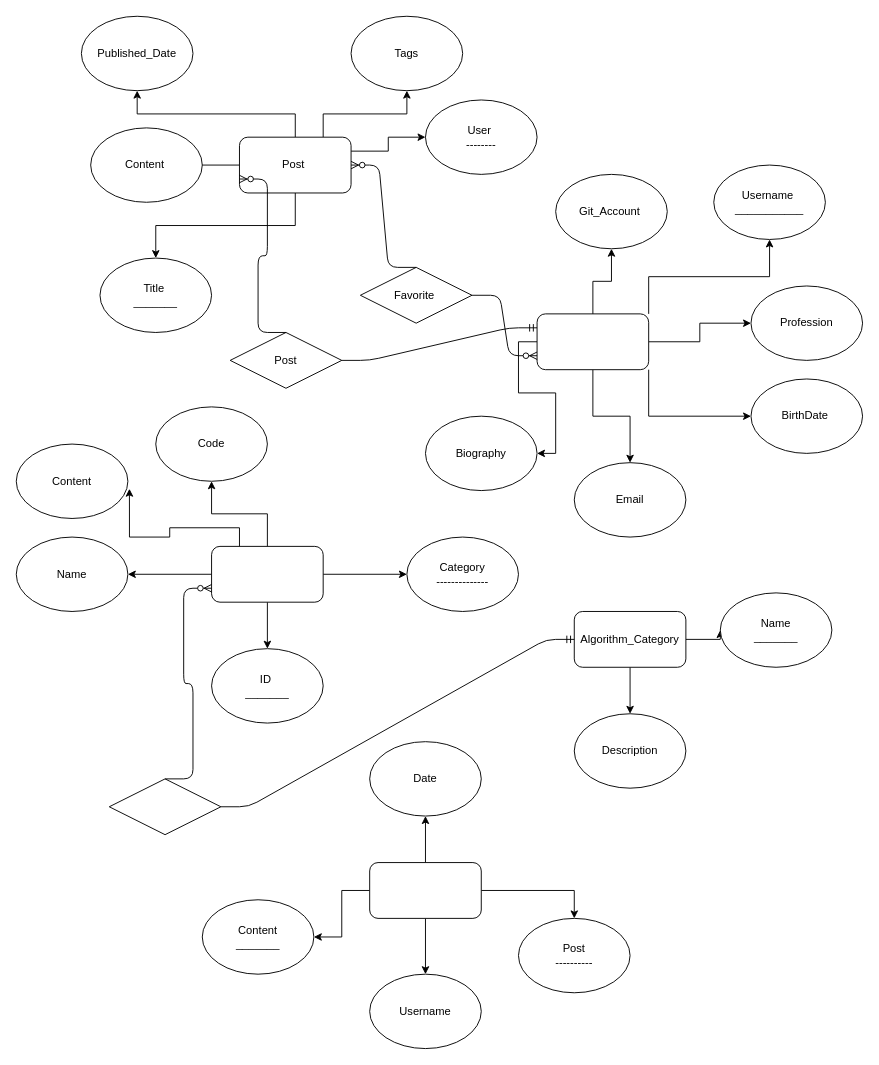
Image size: 879x1065. Some labels were removed from this diagram. The centre of each missing label's shape, as x and y in pixels:
"Algorithm" belongs at (x=267, y=573).
"Comment" belongs at (x=425, y=890).
"Has" belongs at (x=164, y=806).
"User" belongs at (x=592, y=341).
